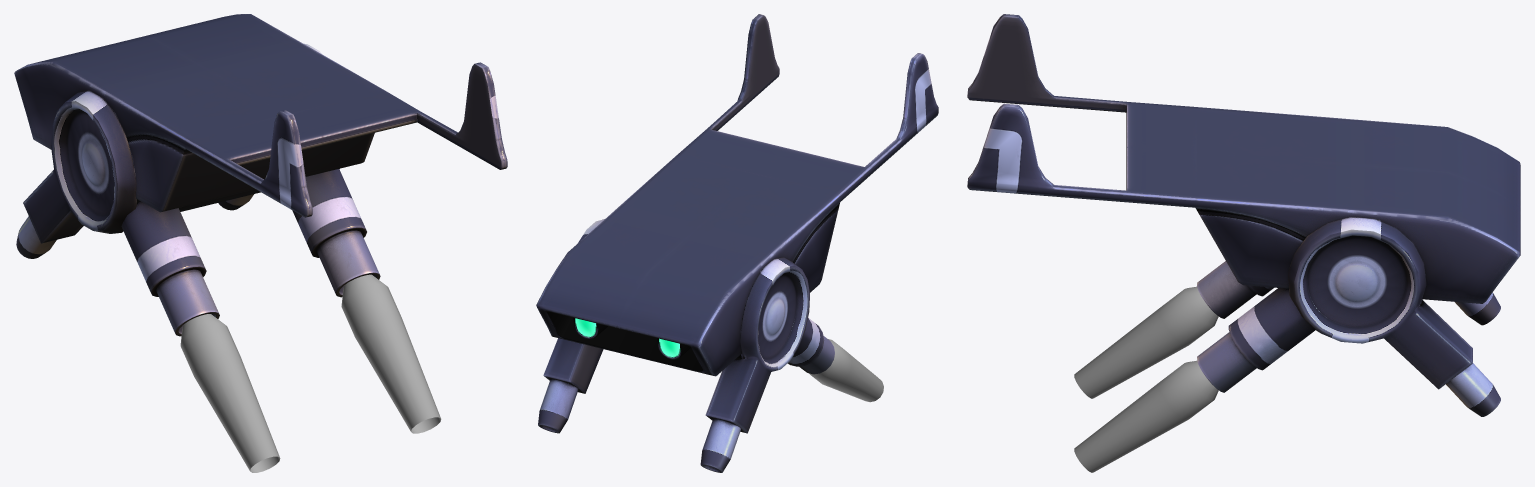
File: FUT0110028.fbx
The picture shows the model from 3 angles, left to right: view 1: azimuth 30°, elevation 25°; view 2: azimuth 150°, elevation 25°; view 3: azimuth 270°, elevation 25°; orthographic projection. The views are drawn at different scales.
Visible parts, largest first — view 1: smFUT0110028; view 2: smFUT0110028; view 3: smFUT0110028.
Boxes of the visible parts, x1,y1,x2,y2 form: smFUT0110028: (14,14,507,472); smFUT0110028: (536,14,938,472); smFUT0110028: (967,14,1520,472).
Size of the model in its own units: 297 by 484 by 649.
Materials: 2 (1 with a texture image).
